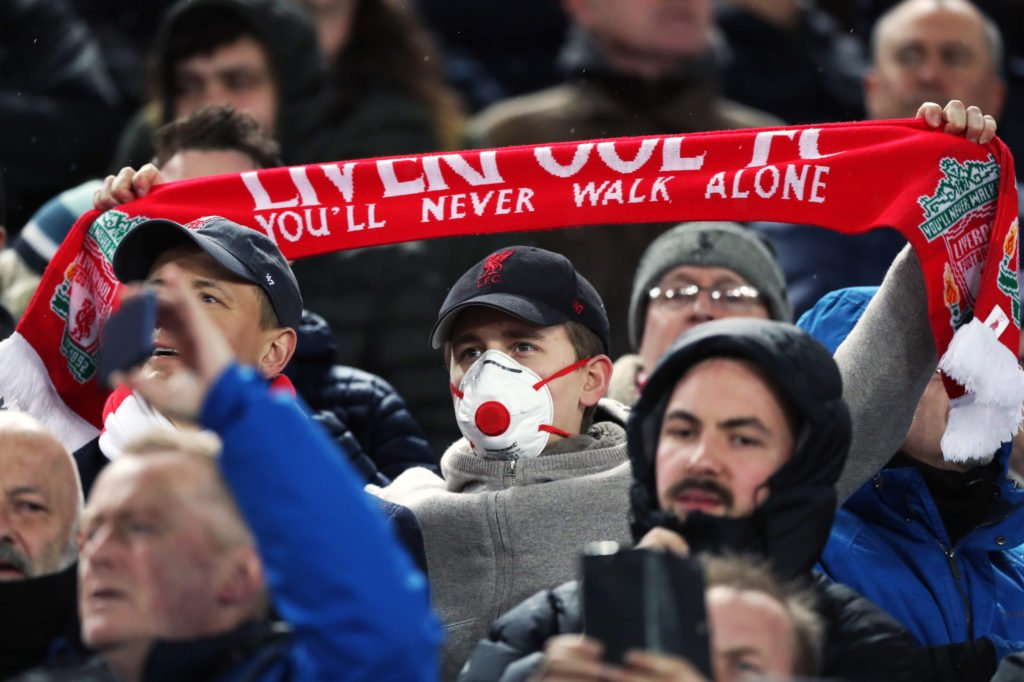with_mask: (444, 322, 563, 448)
without_mask: (83, 446, 224, 637), (665, 391, 778, 525)
